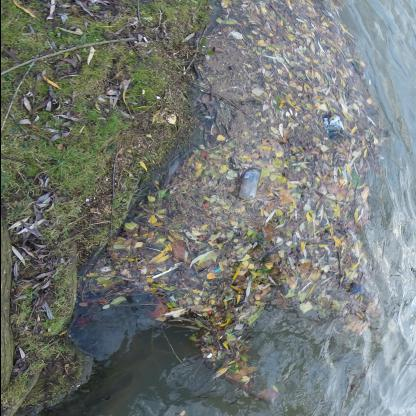plastik: (240, 170, 260, 202)
